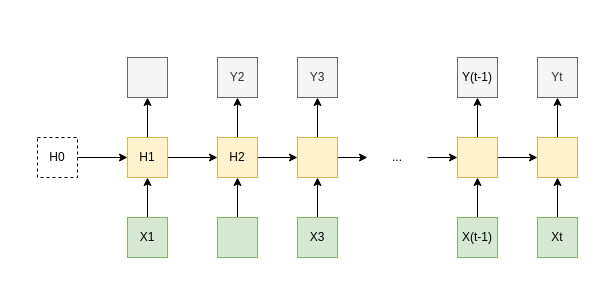
Image size: 614x294. Some labels were removed from this diagram. The centre of each missing label's shape, as x and y in pixels:
"H(t-1)" goes at (477,157).
"H3" goes at (317,157).
"Ht" goes at (557,157).
"X2" goes at (237,237).
"Y1" goes at (147,77).
